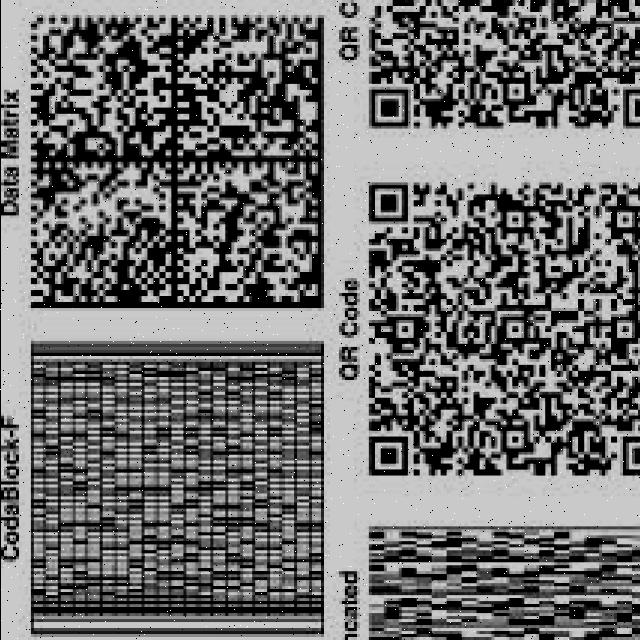datamatrix: (18, 6, 329, 320)
